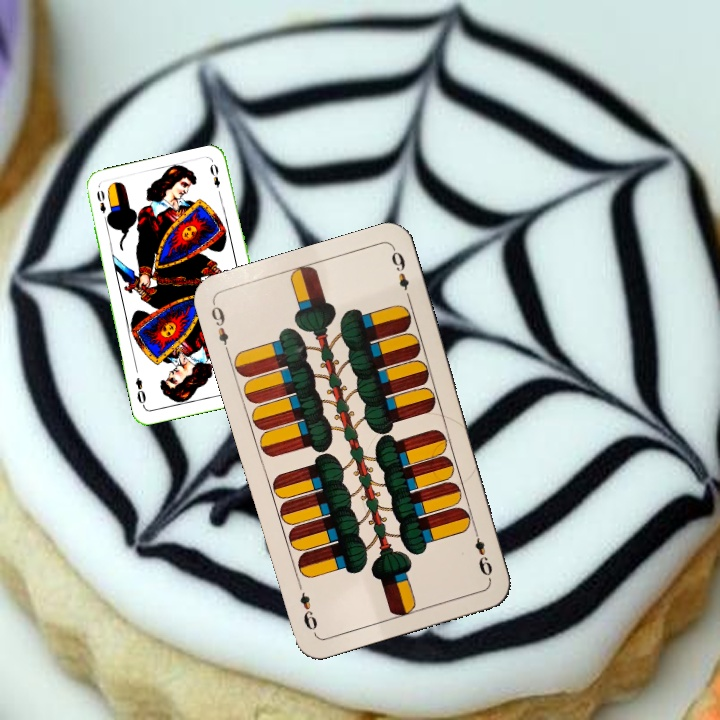E9: (470, 524, 495, 582), (207, 299, 232, 357)
EO: (93, 186, 112, 225)
